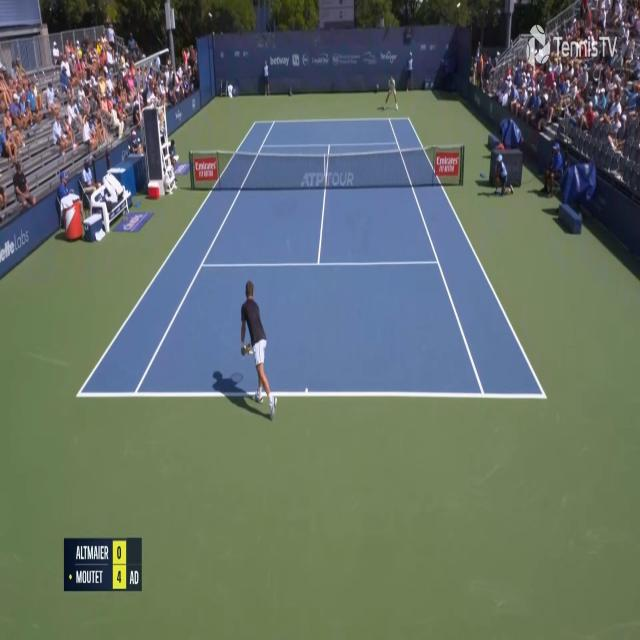tennis-player: (238, 276, 279, 414), (382, 74, 400, 110)
